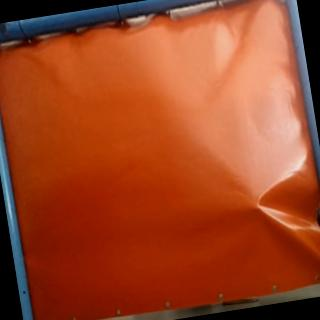Hit-hRxx: (249, 198, 267, 215)
